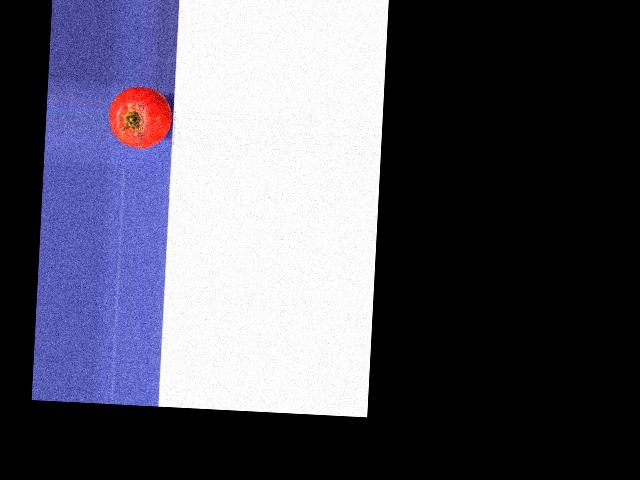tomato: (107, 85, 172, 149)
